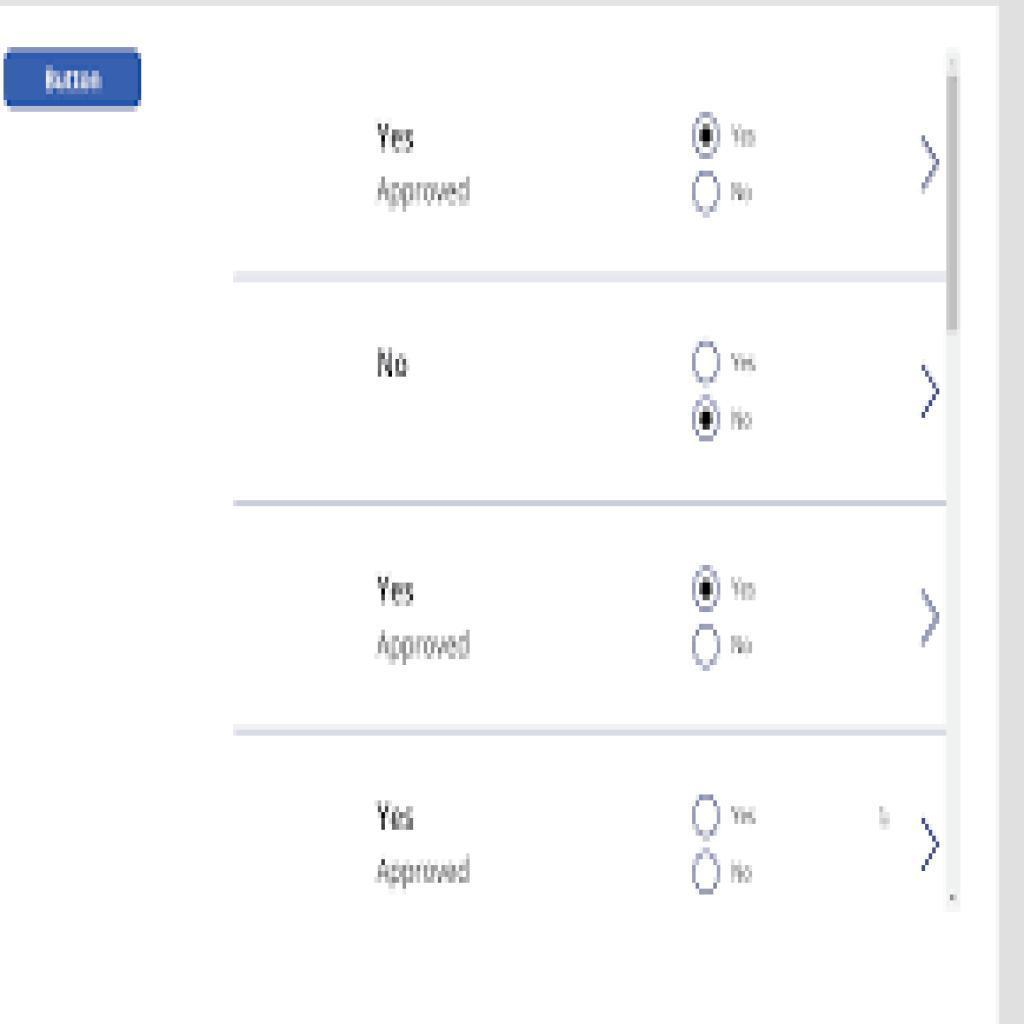radio: (690, 795, 725, 845), (691, 850, 724, 900), (692, 625, 724, 674), (692, 111, 723, 161), (691, 565, 722, 615), (692, 172, 723, 219), (692, 342, 722, 389), (694, 398, 722, 444)
